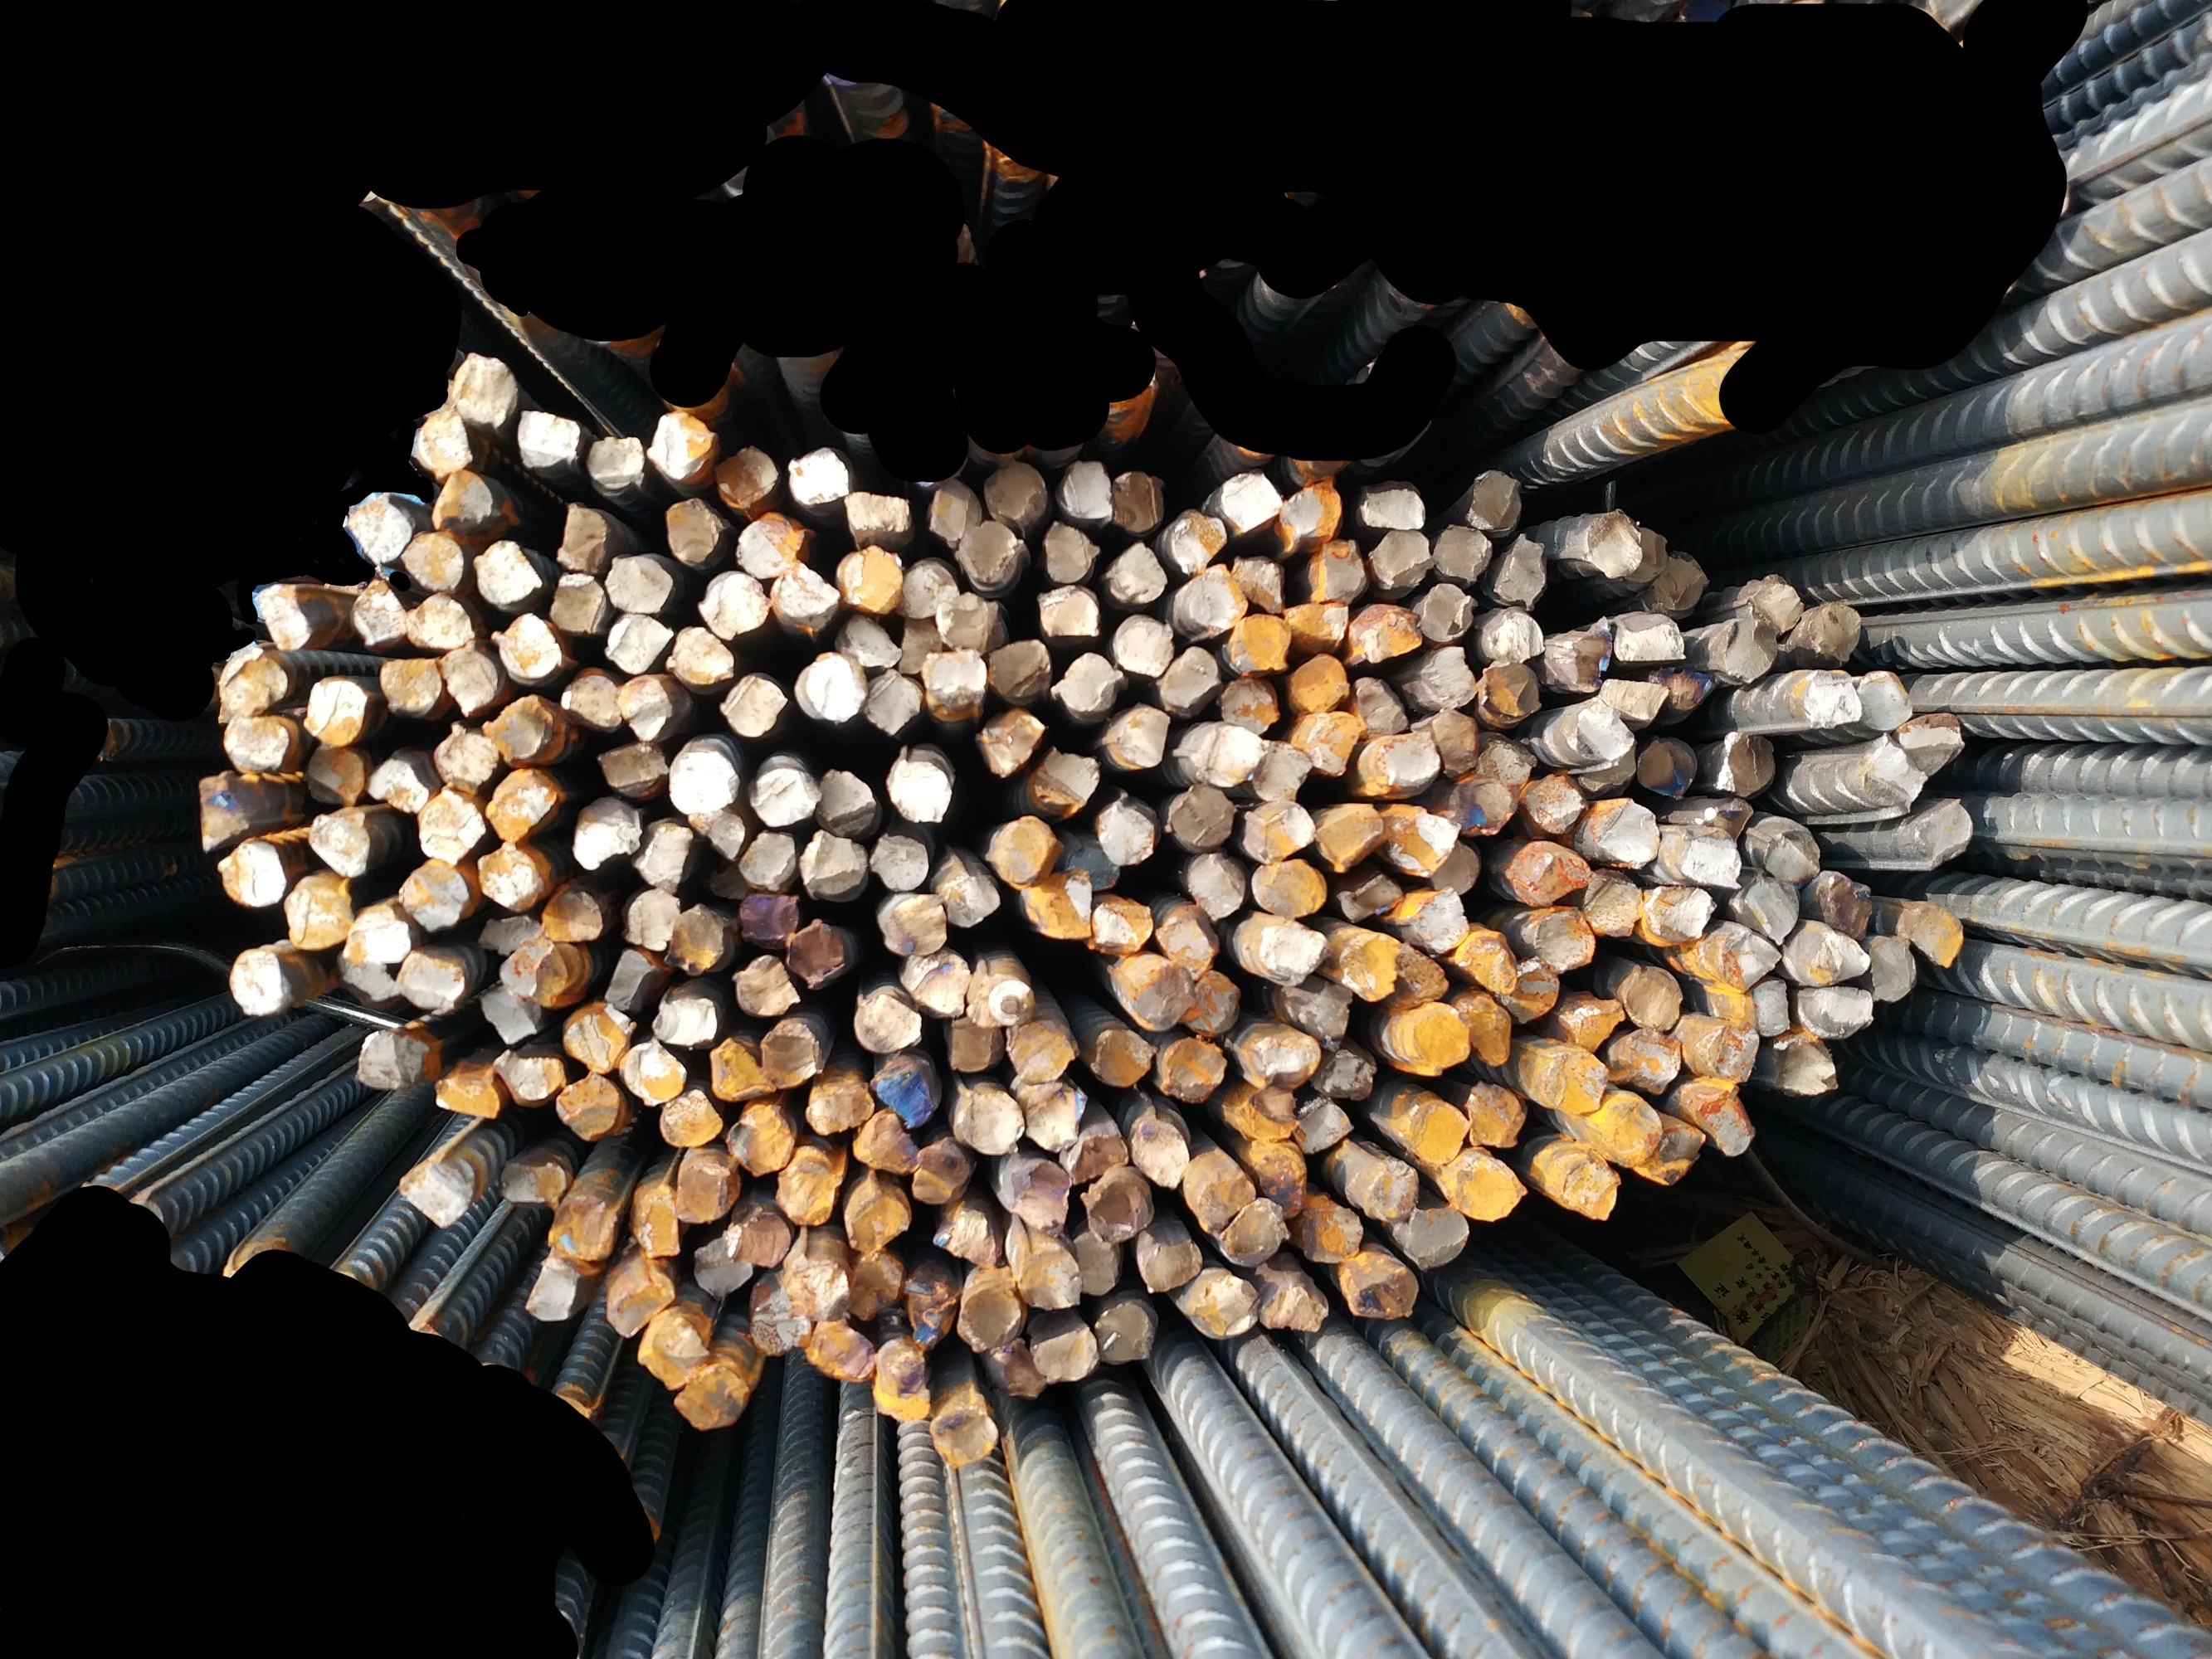rebar: (1536, 1143, 1621, 1225), (542, 1194, 626, 1274), (631, 1309, 711, 1391), (1175, 1267, 1262, 1342), (1781, 917, 1872, 986), (793, 647, 870, 728), (396, 1154, 479, 1229), (1245, 915, 1332, 986), (1436, 1154, 1525, 1223), (1382, 805, 1464, 880), (214, 641, 289, 721), (483, 767, 558, 847), (695, 568, 776, 643), (950, 1082, 1028, 1157), (1002, 1155, 1074, 1237), (1506, 842, 1593, 908), (411, 791, 486, 868), (1175, 561, 1250, 638), (281, 871, 354, 950), (396, 856, 469, 934), (1020, 866, 1093, 945), (1077, 1173, 1156, 1246), (1116, 962, 1196, 1033), (488, 612, 565, 685), (614, 1035, 690, 1108), (343, 488, 415, 566), (1400, 1000, 1471, 1079), (1604, 1028, 1682, 1100), (671, 1364, 753, 1432), (1389, 1100, 1473, 1166), (499, 939, 573, 1012), (723, 1101, 795, 1178), (927, 1398, 1004, 1469), (981, 810, 1058, 882), (971, 706, 1048, 777), (607, 1262, 676, 1340), (1013, 1236, 1082, 1314), (1367, 727, 1445, 796), (1182, 723, 1265, 788), (216, 835, 289, 908), (1128, 1107, 1191, 1192), (1290, 704, 1363, 777), (549, 1070, 624, 1141), (558, 1000, 633, 1072), (748, 762, 824, 831), (1494, 953, 1564, 1030), (662, 746, 743, 812), (1447, 770, 1520, 842), (572, 795, 641, 870), (744, 1284, 814, 1359), (802, 1316, 877, 1385), (1028, 746, 1103, 816), (1313, 802, 1388, 871), (1156, 643, 1224, 720), (1734, 871, 1802, 948), (1860, 735, 1928, 812), (1382, 939, 1449, 1018), (352, 1028, 432, 1093), (1250, 857, 1330, 922), (429, 721, 500, 793), (483, 692, 554, 763), (779, 1251, 851, 1323), (901, 946, 973, 1018), (645, 408, 716, 479), (770, 559, 842, 631), (774, 1157, 847, 1227), (882, 755, 952, 828), (1018, 1082, 1088, 1155), (1593, 796, 1661, 871), (1279, 476, 1346, 552), (436, 640, 500, 718), (1347, 601, 1426, 666), (1642, 885, 1722, 948), (798, 828, 868, 899), (709, 1033, 779, 1105), (1398, 885, 1469, 955), (469, 538, 542, 606), (302, 812, 375, 880), (845, 1183, 913, 1256), (858, 667, 926, 741), (1215, 1197, 1288, 1265), (1241, 800, 1316, 866), (1578, 507, 1644, 582), (389, 950, 465, 1014), (455, 349, 518, 427), (1001, 1021, 1079, 1084), (1400, 647, 1478, 709), (474, 842, 544, 911), (518, 1258, 587, 1328), (758, 1019, 826, 1091), (931, 1201, 1002, 1269), (736, 509, 807, 577), (1537, 1047, 1609, 1115), (1712, 730, 1780, 802), (225, 946, 291, 1019), (851, 988, 924, 1054), (1051, 650, 1124, 716), (1164, 784, 1238, 850), (1414, 706, 1480, 779), (340, 901, 415, 965), (631, 819, 695, 894), (664, 626, 739, 690), (1279, 978, 1354, 1042), (1719, 922, 1783, 997), (1679, 823, 1743, 897), (492, 1046, 568, 1108), (845, 1244, 906, 1323), (959, 1276, 1020, 1354), (1454, 990, 1515, 1068), (851, 1108, 919, 1178), (835, 544, 905, 612), (1086, 1023, 1156, 1091), (1527, 904, 1597, 972), (1565, 697, 1635, 765), (1905, 796, 1973, 866), (303, 676, 370, 748), (425, 469, 497, 535), (432, 1058, 504, 1124), (689, 1229, 755, 1300), (718, 673, 790, 739), (955, 521, 1027, 587), (1217, 469, 1288, 535), (661, 903, 725, 976), (877, 892, 950, 957), (220, 713, 295, 775), (1245, 1026, 1321, 1087), (1103, 702, 1171, 770), (1154, 911, 1222, 979), (1245, 737, 1313, 805), (1473, 659, 1541, 727), (1771, 1028, 1839, 1096), (1898, 901, 1966, 969), (300, 741, 366, 810), (1157, 1037, 1227, 1103), (1597, 1101, 1663, 1171), (1795, 983, 1876, 1040), (908, 1136, 973, 1208), (1337, 929, 1401, 1000), (1581, 870, 1645, 941), (1754, 821, 1825, 885), (730, 953, 804, 1016), (1813, 866, 1876, 939), (1693, 1082, 1754, 1157), (193, 770, 248, 854), (628, 1183, 685, 1262), (713, 443, 779, 511), (983, 638, 1051, 704), (1297, 1199, 1365, 1265), (1898, 706, 1966, 772), (363, 753, 432, 817), (872, 1058, 936, 1127), (983, 457, 1048, 526), (1184, 852, 1248, 922), (1365, 526, 1435, 591), (1621, 964, 1686, 1033), (603, 613, 675, 676), (1398, 1208, 1469, 1270), (1637, 1124, 1708, 1187), (1609, 610, 1689, 666), (603, 552, 676, 613), (1096, 795, 1157, 868), (1494, 535, 1551, 612), (675, 1157, 741, 1223), (938, 864, 1004, 931), (514, 406, 580, 472), (1192, 1169, 1260, 1234), (1225, 612, 1293, 676), (397, 530, 467, 592), (814, 769, 877, 838), (722, 1206, 791, 1269), (662, 497, 725, 566), (917, 647, 987, 709), (1060, 1126, 1130, 1188), (253, 580, 314, 652), (401, 589, 472, 650), (786, 918, 847, 990), (1248, 1147, 1309, 1218), (1466, 1080, 1530, 1147), (1218, 674, 1285, 739), (1717, 617, 1781, 683), (1849, 669, 1916, 734), (1032, 1323, 1100, 1385), (1093, 1298, 1156, 1366), (535, 884, 605, 945), (805, 1073, 875, 1134), (784, 444, 854, 505), (1349, 1262, 1419, 1323), (1562, 615, 1616, 694), (833, 613, 905, 673), (594, 741, 669, 796), (1112, 610, 1175, 676), (1700, 1023, 1762, 1089), (1637, 737, 1703, 800), (347, 579, 408, 647), (499, 1152, 570, 1209), (906, 1270, 959, 1349), (648, 990, 722, 1046), (1255, 1283, 1330, 1337), (1105, 538, 1168, 603), (1358, 1157, 1421, 1222), (1288, 650, 1353, 713), (1523, 774, 1588, 836), (1457, 934, 1520, 999), (560, 674, 626, 735), (615, 674, 676, 741), (415, 410, 474, 477), (1170, 505, 1227, 575), (1558, 997, 1628, 1054), (326, 951, 399, 1006), (866, 829, 929, 892), (936, 587, 999, 650), (624, 889, 685, 953), (736, 828, 797, 892), (584, 432, 648, 493), (1138, 1234, 1203, 1295), (1349, 674, 1410, 739), (1433, 521, 1494, 586), (1414, 582, 1478, 643), (1581, 737, 1645, 798), (378, 655, 444, 714), (657, 1089, 723, 1148), (1185, 971, 1245, 1037), (1307, 538, 1367, 605), (1480, 605, 1546, 664), (967, 972, 1037, 1028), (1309, 1046, 1379, 1101), (1863, 932, 1917, 1004), (1037, 580, 1100, 641), (1801, 666, 1862, 728), (1089, 901, 1156, 958), (927, 479, 983, 547), (1288, 1100, 1356, 1155), (899, 558, 960, 619), (1743, 573, 1802, 636), (736, 892, 800, 950), (1044, 519, 1102, 584), (1058, 458, 1116, 523), (1229, 552, 1286, 617), (1645, 552, 1710, 610), (1649, 662, 1717, 716), (1597, 674, 1672, 723), (481, 985, 540, 1046), (549, 572, 605, 636), (1236, 1086, 1300, 1141), (1110, 467, 1164, 533), (840, 488, 913, 537), (558, 502, 608, 572), (1466, 469, 1523, 530), (872, 1337, 927, 1399), (948, 1012, 1004, 1075), (1475, 734, 1537, 789), (1072, 1230, 1121, 1302), (1811, 598, 1863, 664), (1332, 871, 1405, 918), (1426, 838, 1483, 897), (1361, 481, 1428, 532), (1694, 796, 1761, 847), (1281, 598, 1349, 647), (690, 807, 750, 863), (1065, 835, 1121, 894), (603, 948, 655, 1011), (865, 1377, 934, 1424), (994, 1338, 1046, 1399), (469, 913, 540, 957), (1743, 978, 1794, 1039), (896, 613, 943, 676), (1625, 525, 1670, 582), (702, 854, 751, 903)
